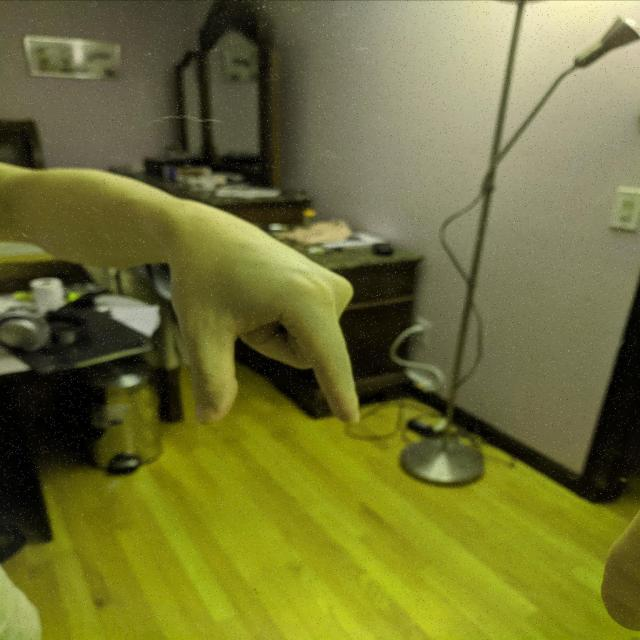Q: (163, 202, 367, 431)
